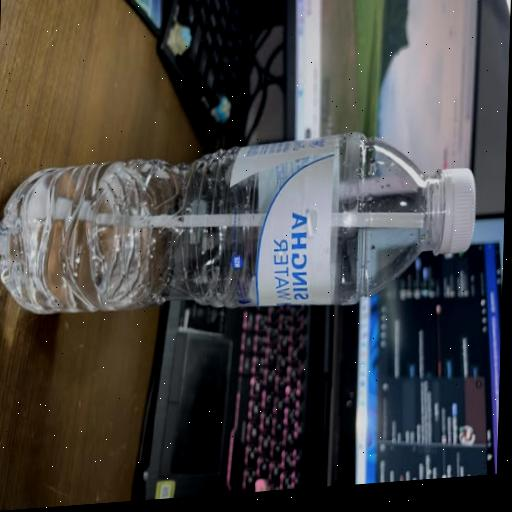ba: (0, 112, 487, 346)
